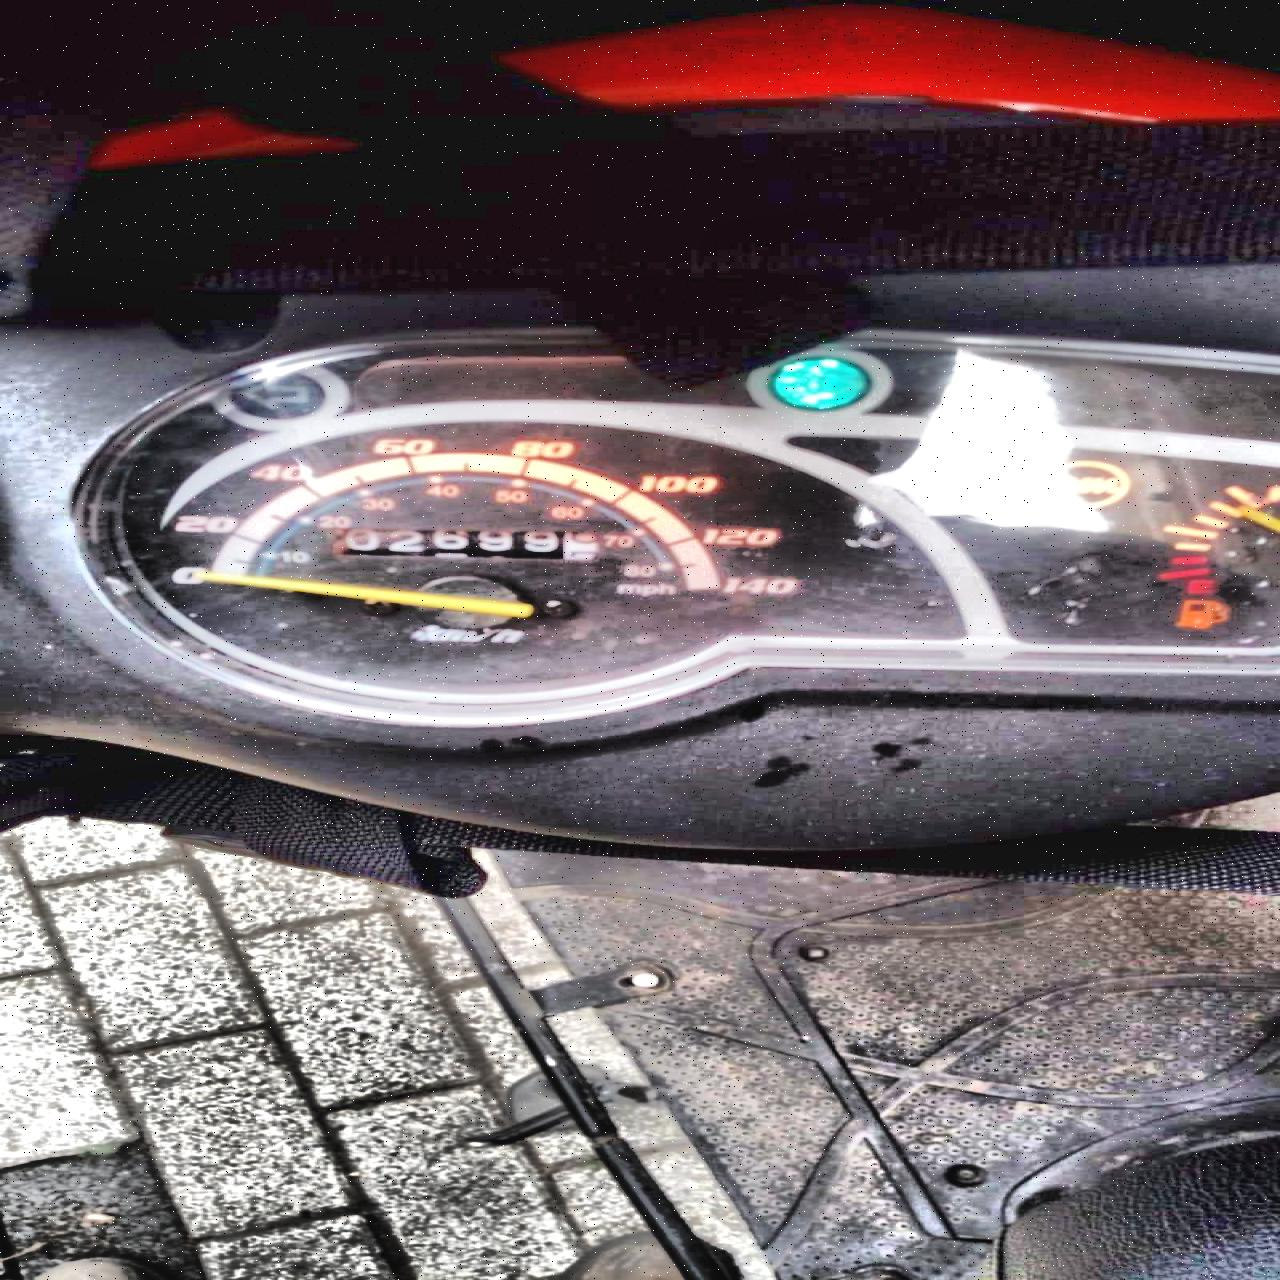0: (342, 527, 377, 554)
2: (386, 529, 422, 556)
6: (427, 527, 467, 551), (566, 527, 601, 547)
9: (474, 529, 513, 553), (523, 530, 560, 556)
odometer: (329, 526, 605, 561)
